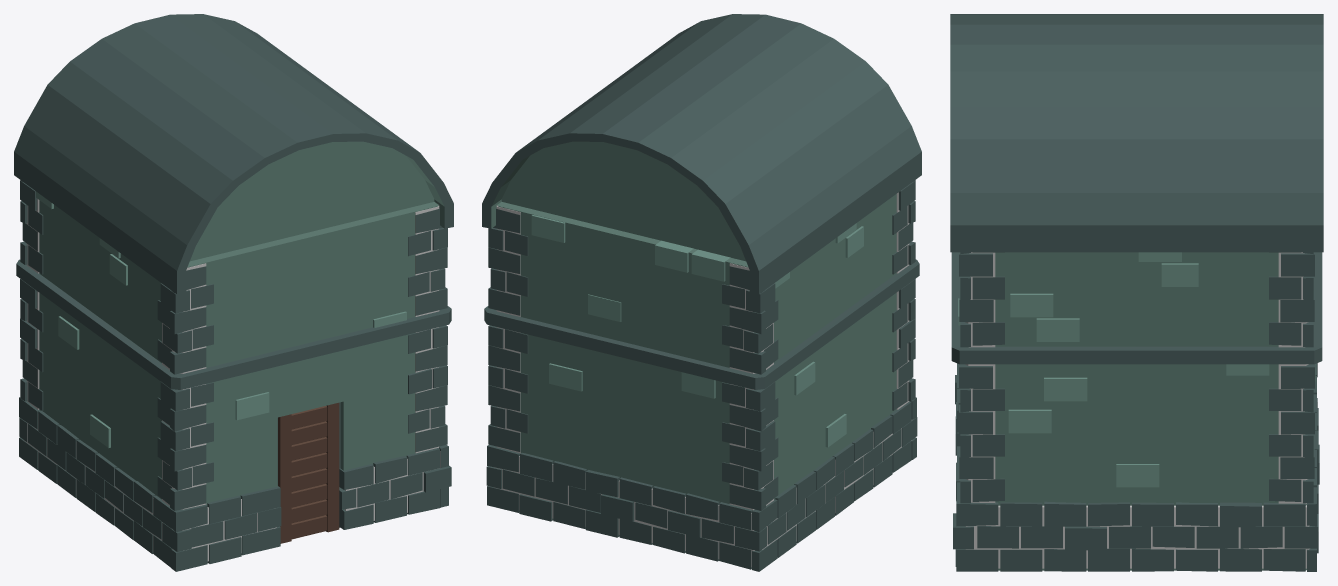
File: 2story_roundroof_mat.glb
3 renders of one model, left to right at view 1: azimuth 30°, elevation 25°; view 2: azimuth 150°, elevation 25°; view 3: azimuth 270°, elevation 25°, orthographic. The views are drawn at different scales.
Visible parts, largest first — view 1: 2Story_RoundRoof_Mat; view 2: 2Story_RoundRoof_Mat; view 3: 2Story_RoundRoof_Mat.
Boxes of the visible parts, <box> form: 2Story_RoundRoof_Mat: <box>14,14,453,571</box>; 2Story_RoundRoof_Mat: <box>482,14,921,571</box>; 2Story_RoundRoof_Mat: <box>950,14,1323,571</box>.
Size of the model in its own units: 2.11 by 2.9 by 2.13.
